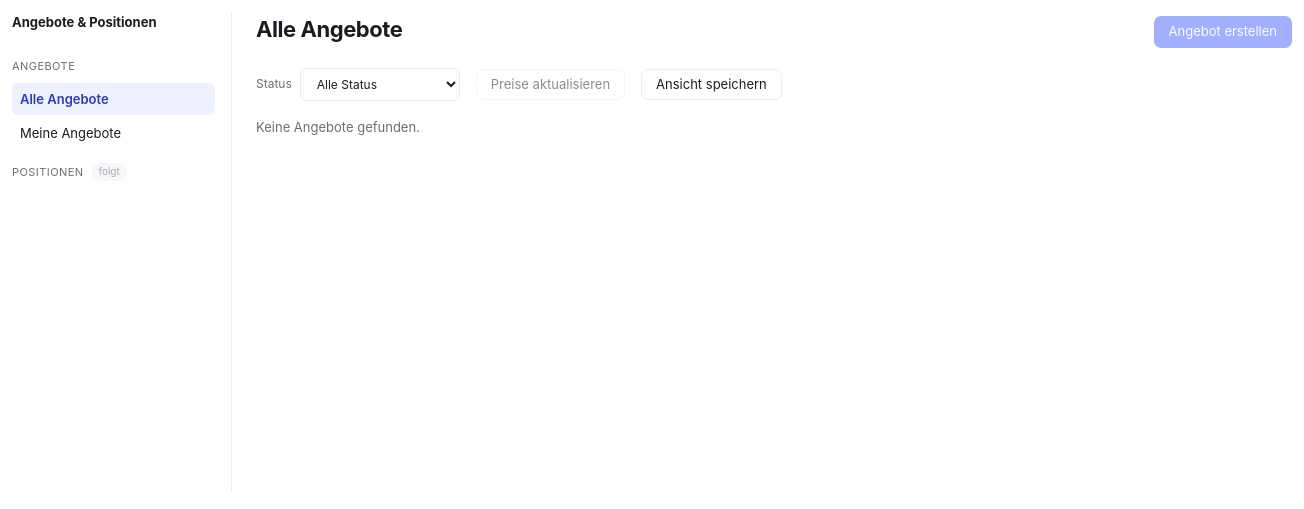
Test: QuotesPage › saves the current filters as a named view that then appears in the sidebar
This screenshot has width=1304, height=509.
Click the button "Ansicht speichern" at (711, 85), box [641,69,782,100]
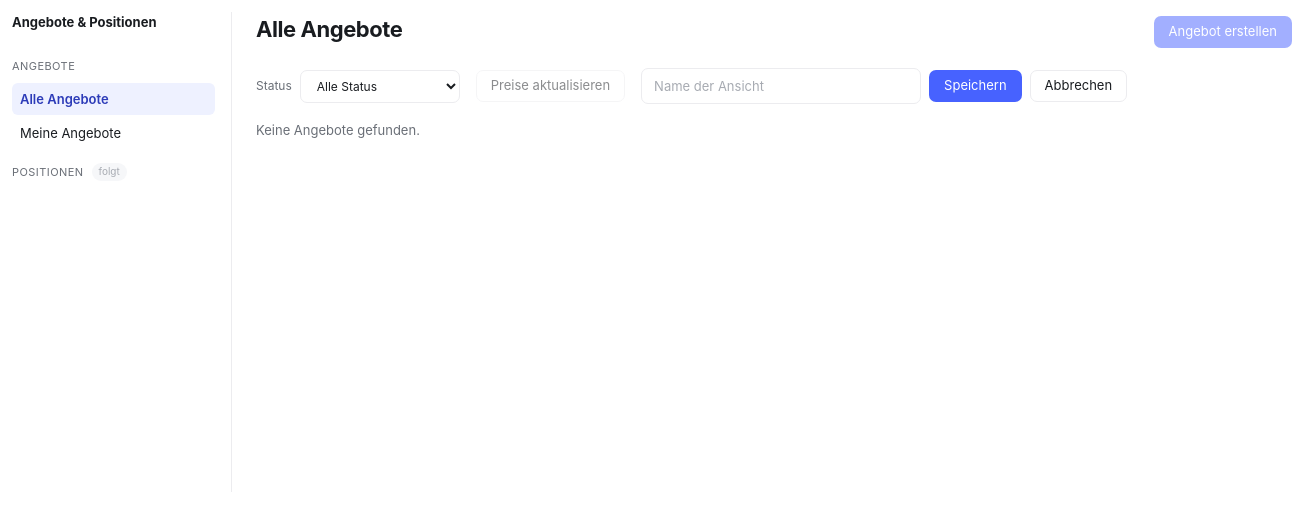
Type "My drafts" into the field labelled "Name der Ansicht" at (781, 86), box [641,68,921,104]
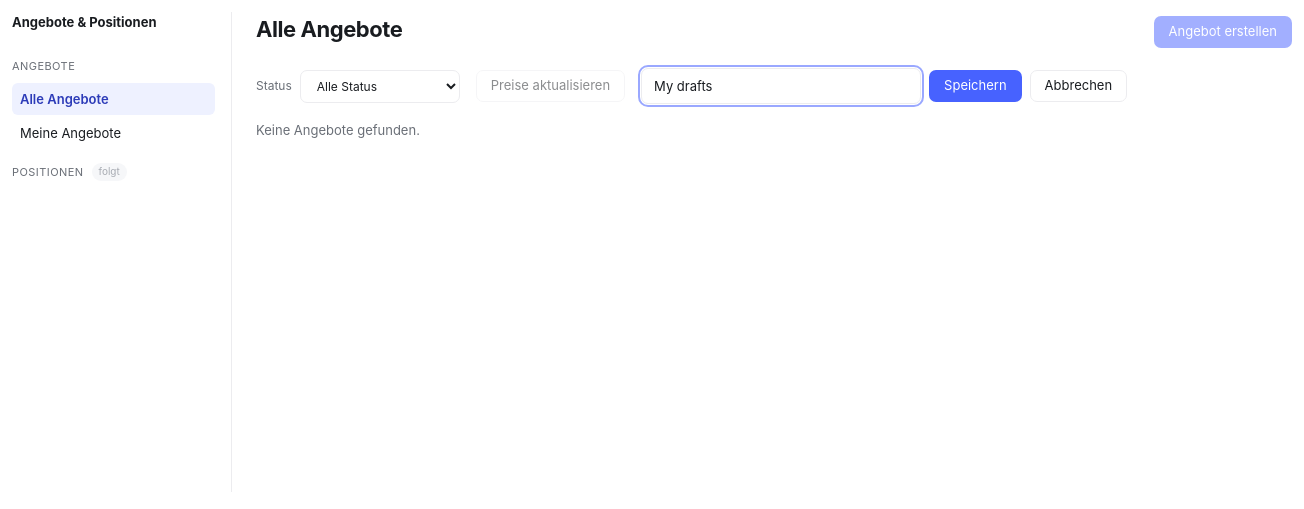
Click the button "Speichern" at (975, 86), box [929,70,1022,102]
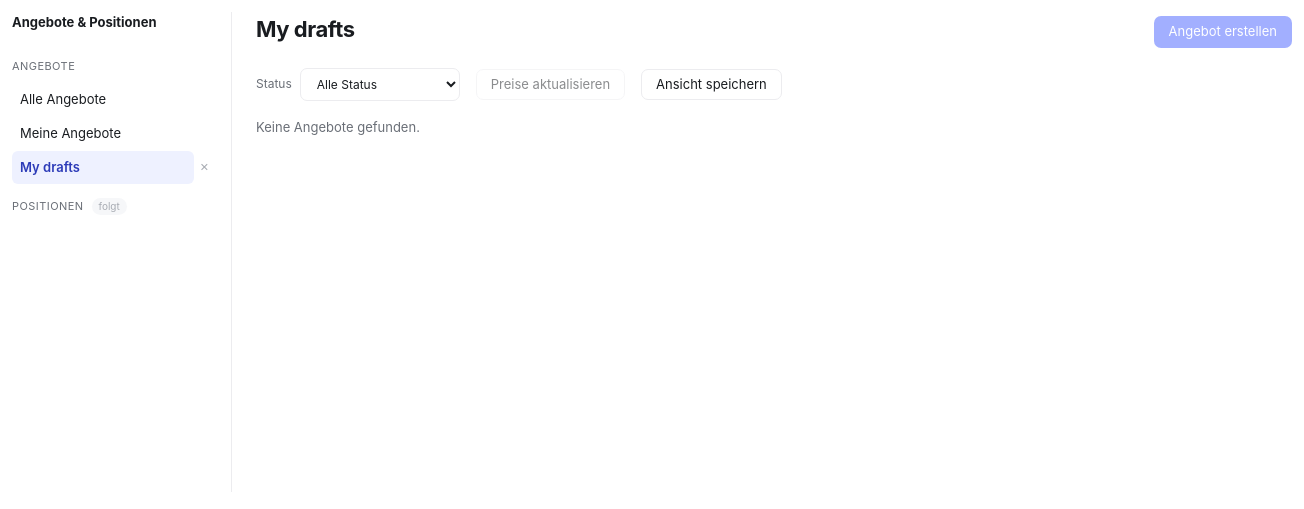
Now the button "My drafts" is shown, box [12,152,194,184]
